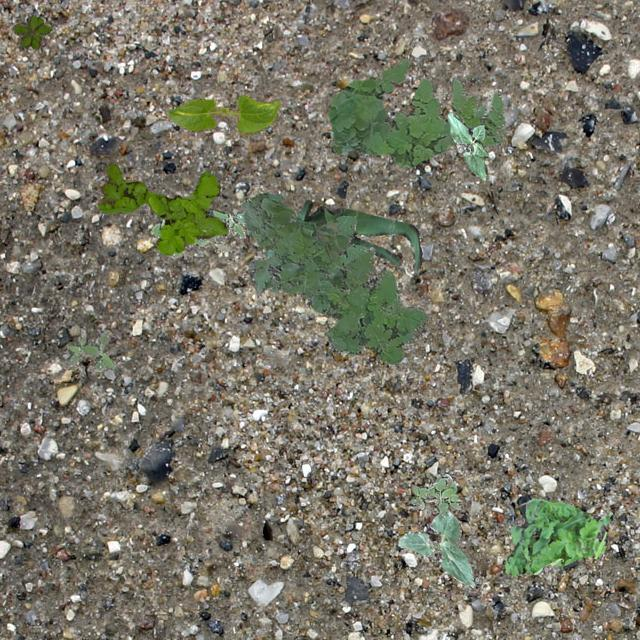crop: (264, 198, 422, 268), (396, 508, 474, 586), (166, 95, 280, 136), (447, 112, 488, 180)
weed: (241, 190, 428, 362), (328, 56, 504, 168), (96, 162, 226, 254), (504, 498, 614, 574), (150, 208, 244, 256), (409, 472, 462, 514), (64, 326, 114, 369), (12, 14, 50, 48)
